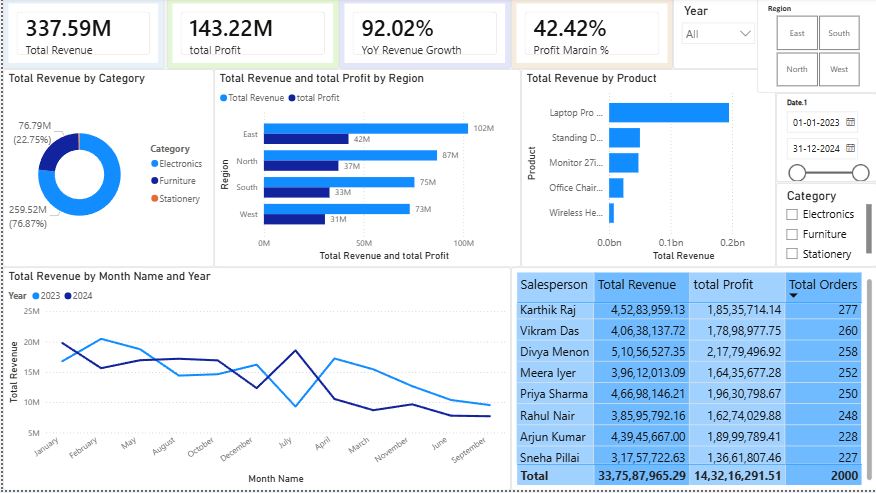

The dashboard page shown, as its layout file describes it:
{"tool":"powerbi","page":{"name":"Sales Dashboard 2023-24","canvas":[1280,720],"ordinal":0},"visuals":[{"type":"donutChart","fields":{"Y":["sales_data.Total Revenue"],"Category":["sales_data.Category"]},"box":[0,103.9,308.8,289.8],"z":0},{"type":"clusteredBarChart","fields":{"Y":["sales_data.Total Revenue"],"Category":["sales_data.Product"]},"box":[758,103.9,373.2,289.8],"z":1000},{"type":"clusteredBarChart","fields":{"Category":["sales_data.Region"],"Y":["sales_data.Total Revenue","sales_data.total Profit"]},"box":[308.8,103.9,449.3,289.8],"z":2000},{"type":"lineChart","fields":{"Category":["sales_data.Month Name"],"Y":["sales_data.Total Revenue"],"Series":["sales_data.Year"]},"box":[0,393.3,743.3,326.7],"z":3000},{"type":"cardVisual","fields":{"Data":["sales_data.Total Revenue"]},"box":[0,0,235.6,103.9],"z":4000},{"type":"cardVisual","fields":{"Data":["sales_data.total Profit"]},"box":[240,0,251.7,103.9],"z":5000},{"type":"cardVisual","fields":{"Data":["sales_data.YoY Revenue Growth"]},"box":[491.7,0,251.7,103.9],"z":6000},{"type":"cardVisual","fields":{"Data":["sales_data.Profit Margin %"]},"box":[743.4,0,237.1,103.9],"z":7000},{"type":"tableEx","fields":{"Values":["sales_data.Salesperson","sales_data.Total Revenue","sales_data.total Profit","sales_data.Total Orders"]},"box":[743.3,393.3,536.7,326.7],"z":8000},{"type":"slicer","fields":{"Values":["sales_data.Year"]},"box":[980.5,0,133.2,103.9],"z":9000},{"type":"slicer","fields":{"Values":["sales_data.Region"]},"box":[1103.4,0,177.1,139],"z":10000},{"type":"slicer","fields":{"Values":["sales_data.Date.1"]},"box":[1131.7,138.3,148.3,130],"z":11000},{"type":"slicer","fields":{"Values":["sales_data.Category"]},"box":[1131.7,270,148.3,123.3],"z":12000}]}

Visuals, with their boxes in screenshot pixels (x1, y1, x2, y2), scaled from the page's 1280x720 canvas onto the 876x493 screenshot:
donutChart - sales_data.Total Revenue x sales_data.Category: 0,71,211,270
clusteredBarChart - sales_data.Total Revenue x sales_data.Product: 519,71,774,270
clusteredBarChart - sales_data.Region x sales_data.Total Revenue: 211,71,519,270
lineChart - sales_data.Month Name x sales_data.Total Revenue: 0,269,509,492
cardVisual - sales_data.Total Revenue: 0,0,161,71
cardVisual - sales_data.total Profit: 164,0,337,71
cardVisual - sales_data.YoY Revenue Growth: 337,0,509,71
cardVisual - sales_data.Profit Margin %: 509,0,671,71
tableEx - sales_data.Salesperson x sales_data.Total Revenue: 509,269,875,492
slicer - sales_data.Year: 671,0,762,71
slicer - sales_data.Region: 755,0,875,95
slicer - sales_data.Date.1: 775,95,875,184
slicer - sales_data.Category: 775,185,875,269
